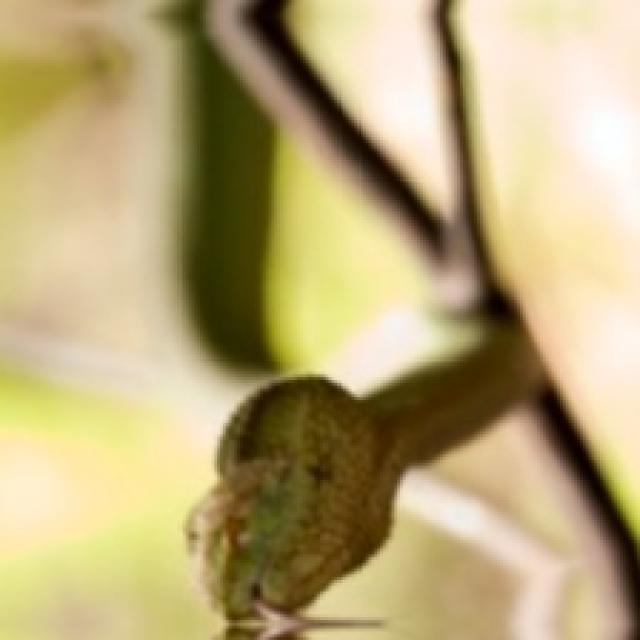north ph temple pitviper: (186, 0, 637, 637)
